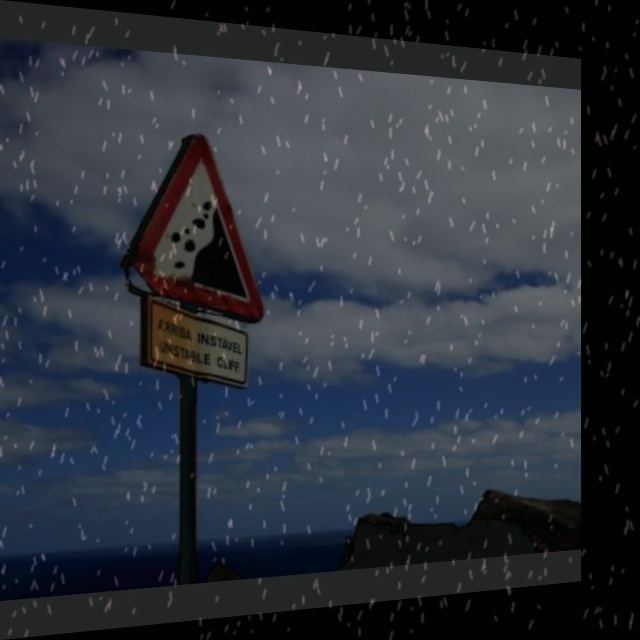Falling_Rocks: (126, 127, 265, 311)
